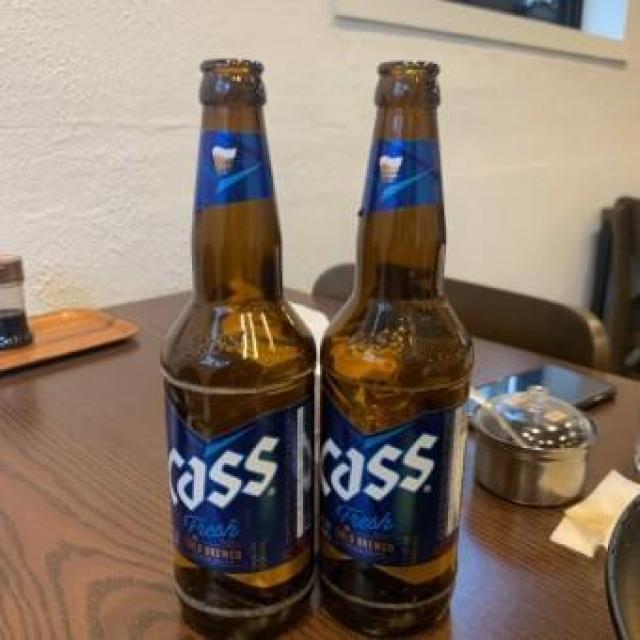beer-bottle: (161, 52, 319, 640), (319, 56, 475, 634)
